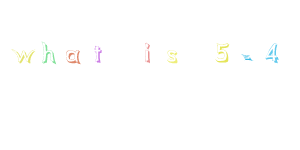-: (240, 52, 253, 63)
4: (263, 41, 280, 64)
5: (215, 41, 229, 63)
a: (65, 48, 81, 64)
h: (40, 41, 57, 65)
i: (142, 40, 152, 63)
s: (166, 48, 179, 64)
t: (92, 45, 103, 64)
w: (12, 47, 35, 64)
